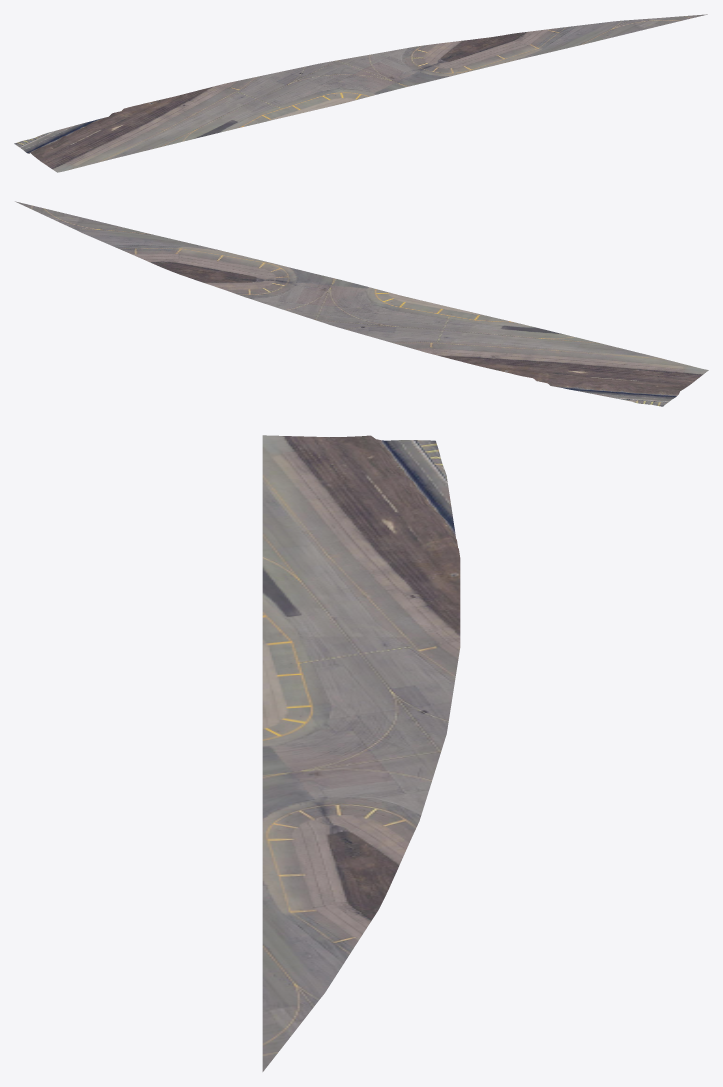
Rendered from terrain_13.glb.
The picture shows the model from 3 angles, top to bottom: view 1: azimuth 30°, elevation 25°; view 2: azimuth 150°, elevation 25°; view 3: azimuth 270°, elevation 25°; orthographic projection. The views are drawn at different scales.
Parts seen in each view (by area): view 1: T09750186000106E11.001; view 2: T09750186000106E11.001; view 3: T09750186000106E11.001.
Part boxes in pixels (x1,y1,x2,y2): T09750186000106E11.001: (14,14,707,172); T09750186000106E11.001: (15,201,708,406); T09750186000106E11.001: (262,435,460,1071).
Bounding box in the file's own units: 472 × 3.1 × 62.
1 material, 1 textured.
